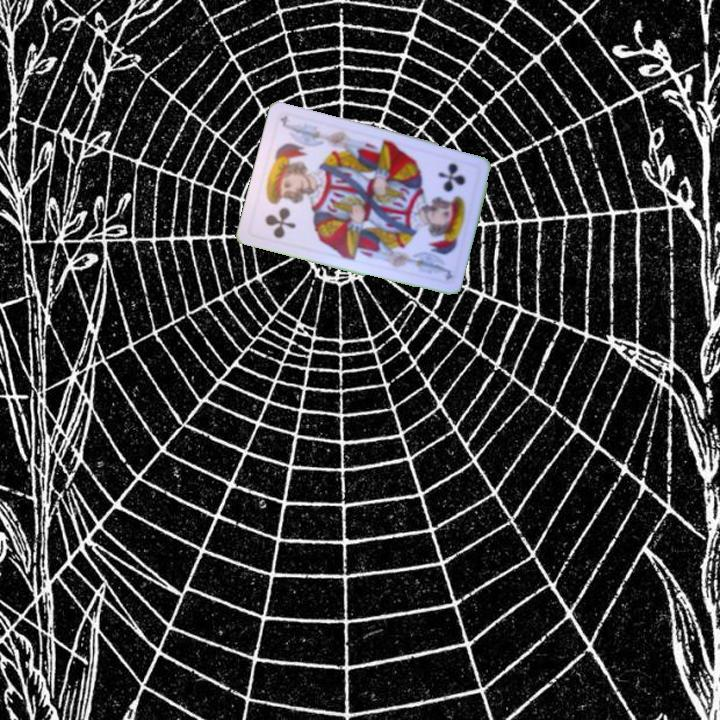c_j.png: (410, 150, 482, 228), (247, 171, 318, 249)
